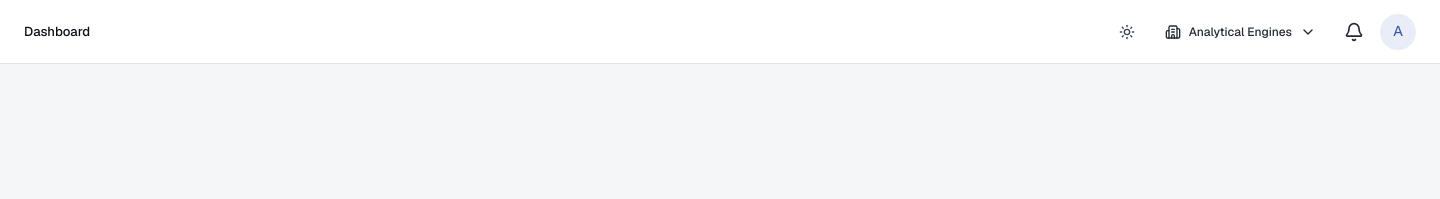
Test: navigation › shows who is signed in
Click the button named "ada lovelace".
click(1398, 32)  # box left=1380, top=14, right=1416, bottom=50
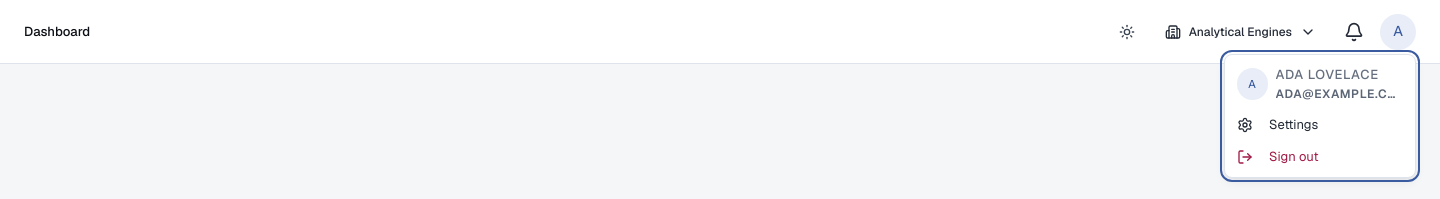
Now the text "Ada Lovelace" is shown, box left=1276, top=66, right=1379, bottom=83
Now the text "ada@example.com" is shown, box left=1276, top=85, right=1403, bottom=103
